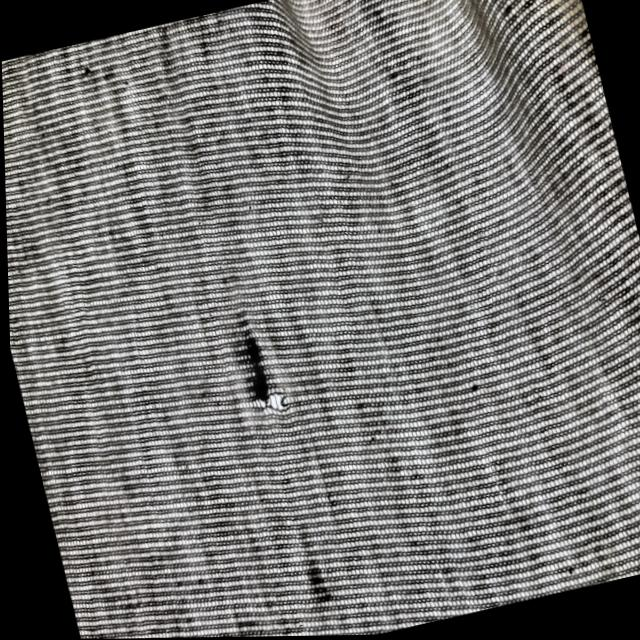Hole: (218, 218, 274, 269), (255, 209, 329, 244)
